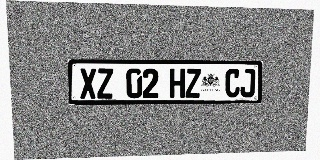0: (126, 68, 142, 98)
2: (143, 68, 158, 98)
C: (225, 69, 240, 97)
H: (170, 68, 185, 98)
J: (240, 69, 256, 97)
X: (79, 68, 97, 99)
Z: (97, 68, 113, 99), (185, 69, 201, 98)
